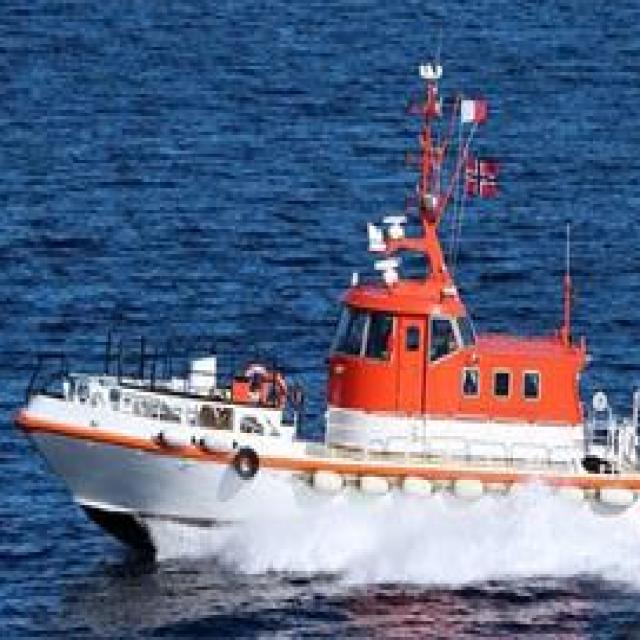houseboat: (16, 76, 640, 558)
